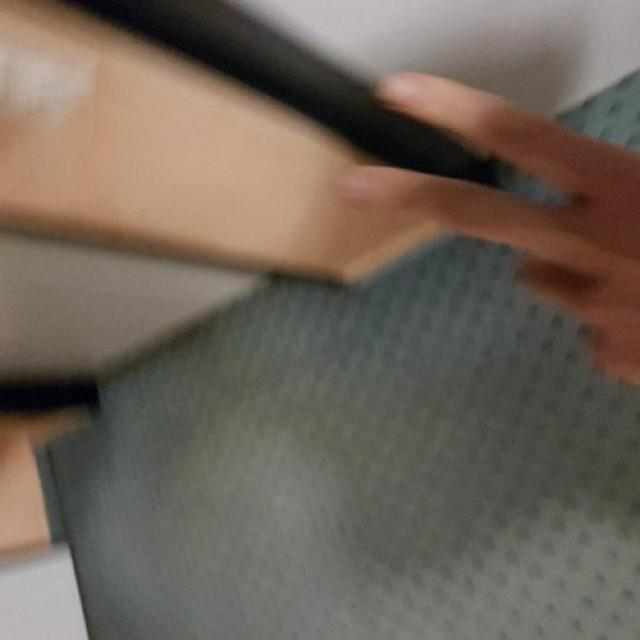scissors: (330, 68, 624, 290)
